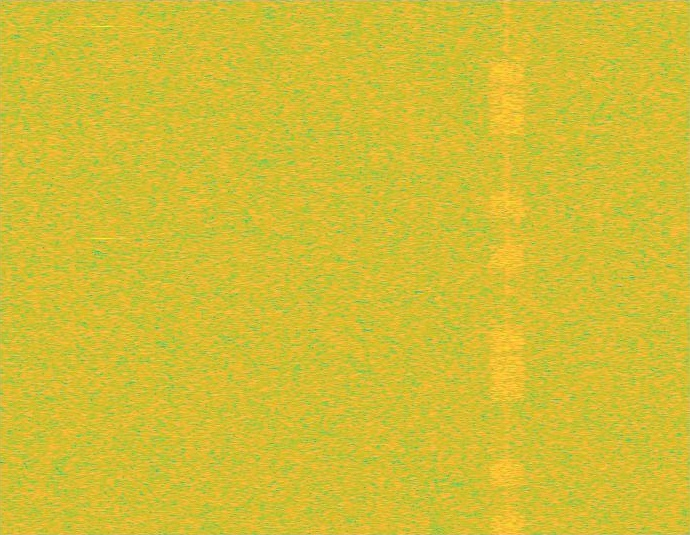DSSS: (505, 0, 510, 534)
LTE: (490, 0, 524, 534)
Radar: (96, 0, 110, 534)
